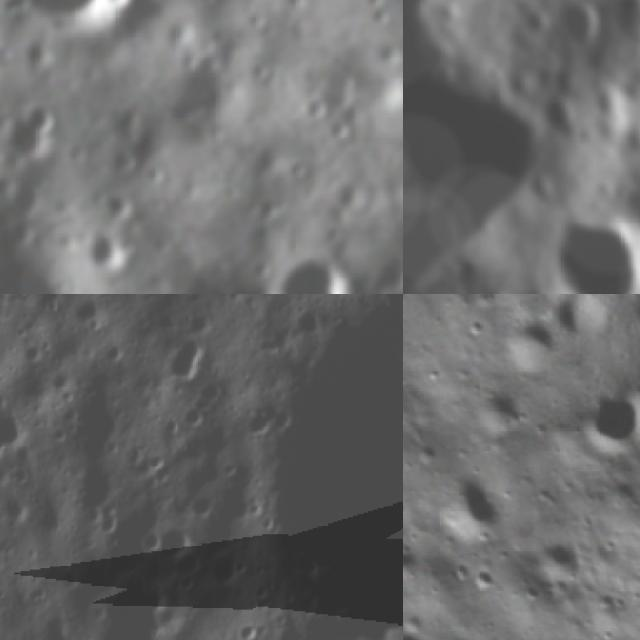crater: (403, 0, 640, 294), (223, 294, 403, 640), (526, 180, 640, 294), (155, 41, 242, 136), (430, 458, 516, 550), (80, 564, 183, 640), (489, 301, 568, 379), (521, 518, 595, 590), (463, 376, 530, 446), (542, 0, 622, 58), (9, 93, 74, 164), (150, 326, 214, 398), (274, 245, 367, 294), (137, 508, 204, 573), (312, 50, 367, 116), (534, 86, 587, 140), (79, 223, 127, 280), (21, 0, 130, 25), (0, 398, 38, 469), (66, 294, 113, 337), (474, 48, 518, 92), (513, 0, 561, 39), (465, 555, 508, 597), (100, 185, 139, 227), (176, 398, 219, 434), (510, 574, 547, 612), (403, 611, 448, 640), (45, 366, 79, 404), (460, 275, 520, 294), (101, 334, 132, 370)
